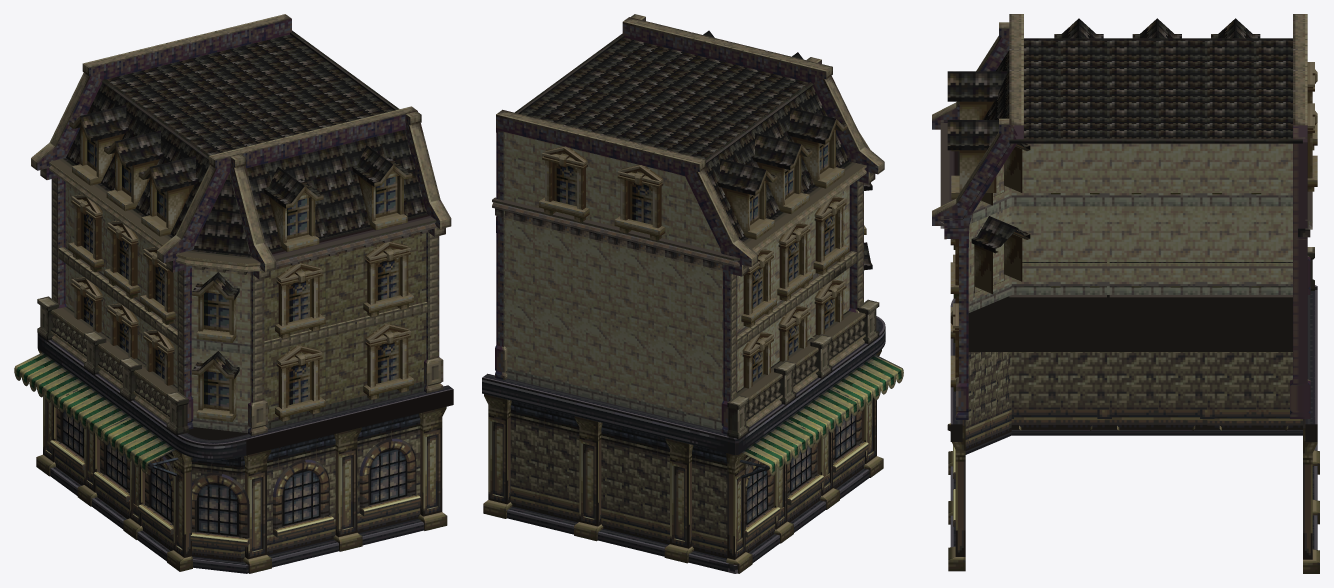
Rendered from EnvBdgMD_City_B_Outdoor_L_B.FBX.
The picture shows the model from 3 angles, left to right: view 1: azimuth 30°, elevation 25°; view 2: azimuth 150°, elevation 25°; view 3: azimuth 270°, elevation 25°; orthographic projection. The views are drawn at different scales.
Visible parts, largest first — view 1: EnvBdgMD_City_B_Outdoor_L_B; view 2: EnvBdgMD_City_B_Outdoor_L_B; view 3: EnvBdgMD_City_B_Outdoor_L_B.
Boxes of the visible parts, x1,y1,x2,y2 form: EnvBdgMD_City_B_Outdoor_L_B: [14, 14, 453, 573]; EnvBdgMD_City_B_Outdoor_L_B: [482, 14, 903, 573]; EnvBdgMD_City_B_Outdoor_L_B: [932, 14, 1319, 573].
Size of the model in its own units: 748 by 1003 by 793.
1 material, 1 textured.
